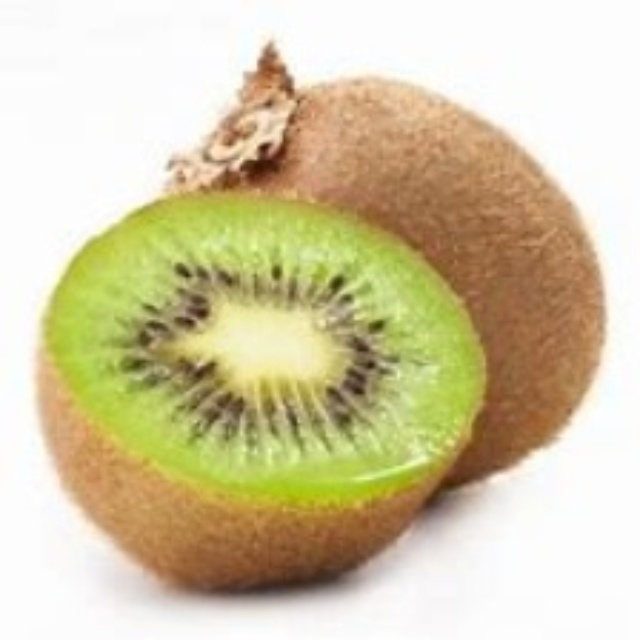kiwi: (156, 50, 603, 489), (34, 196, 476, 594)
